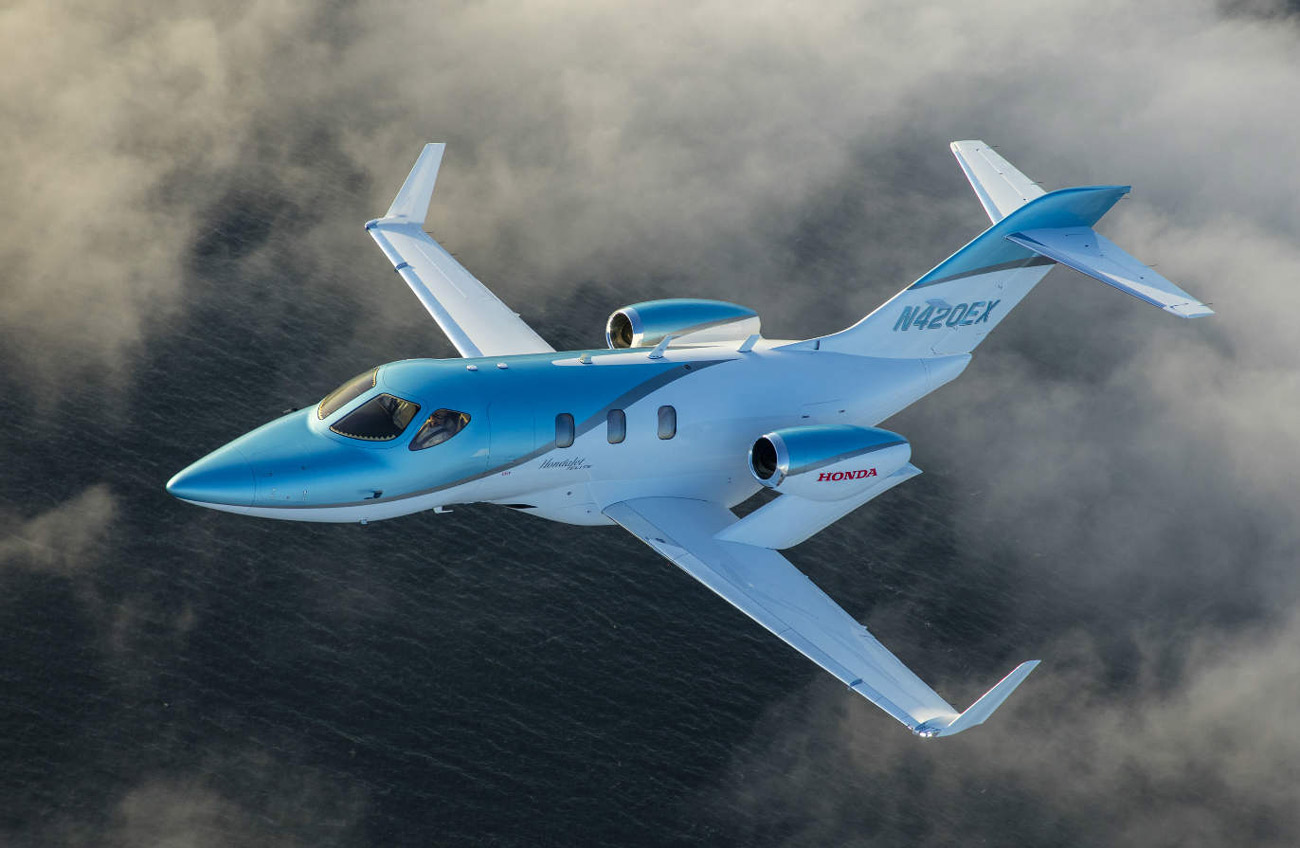Aeronef_commercial: (155, 126, 1229, 750)
